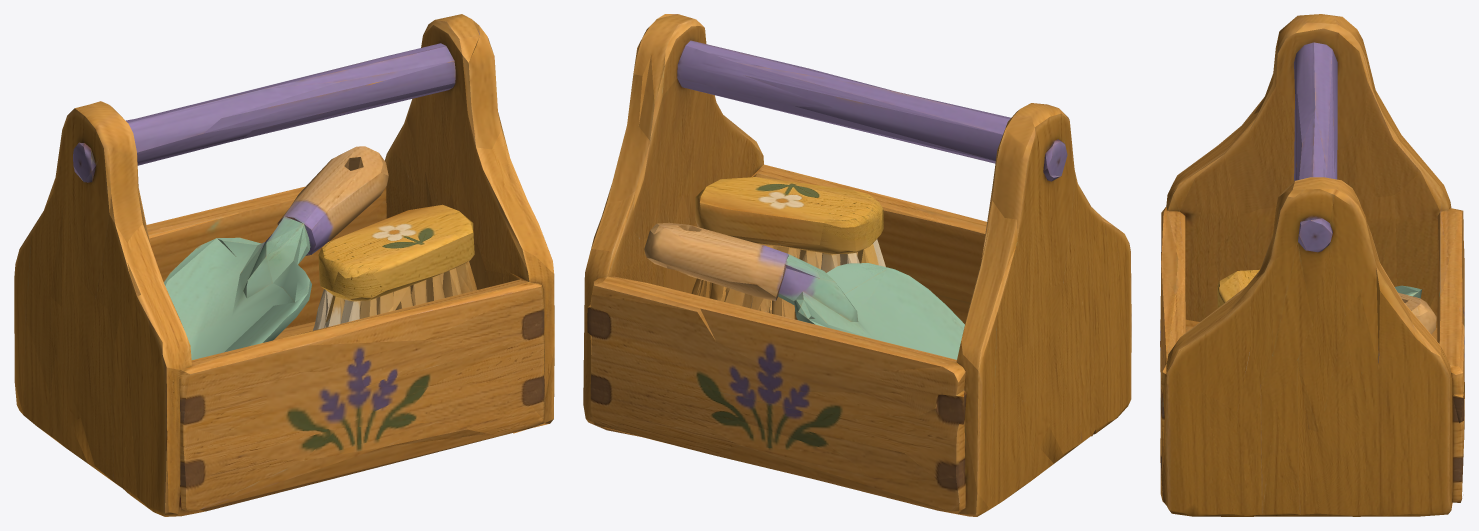
3 views of the same model, side by side, from view 1: azimuth 30°, elevation 25°; view 2: azimuth 150°, elevation 25°; view 3: azimuth 270°, elevation 25° (orthographic). The views are drawn at different scales.
Parts seen in each view (by area): view 1: island-toolbox-v1-1; view 2: island-toolbox-v1-1; view 3: island-toolbox-v1-1.
Part boxes in pixels (x1,y1,x2,y2): island-toolbox-v1-1: (14,14,554,516); island-toolbox-v1-1: (583,14,1131,516); island-toolbox-v1-1: (1160,14,1464,516).
Size of the model in its own units: 0.538 by 0.45 by 0.3753.
1 material, 1 textured.
